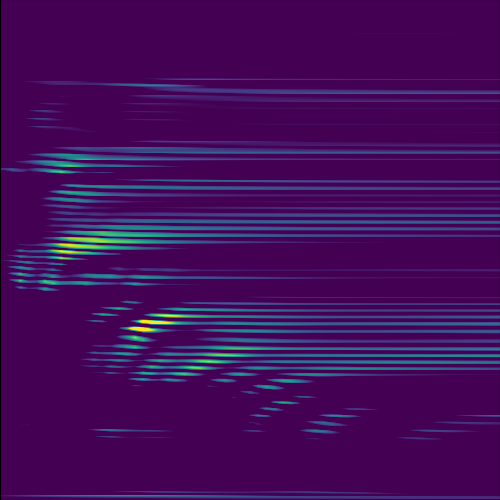semblance: (46, 226, 164, 265), (115, 306, 194, 347), (41, 154, 98, 176)
